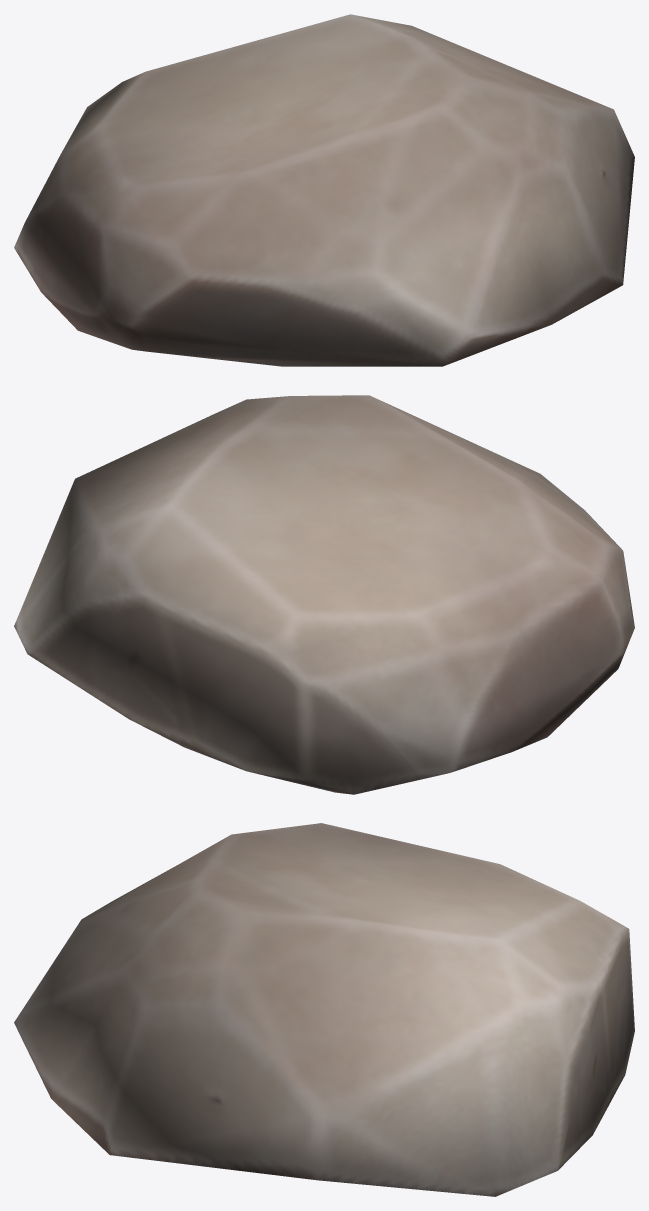
File: SM_Gem_Iron_001.fbx
3 views of the same model, one above another, from view 1: azimuth 30°, elevation 25°; view 2: azimuth 150°, elevation 25°; view 3: azimuth 270°, elevation 25° (orthographic). The views are drawn at different scales.
Parts seen in each view (by area): view 1: SM_Gem_Iron_001; view 2: SM_Gem_Iron_001; view 3: SM_Gem_Iron_001.
Part boxes in pixels (left/top/right/bottom): SM_Gem_Iron_001: left=14, top=14, right=634, bottom=366; SM_Gem_Iron_001: left=14, top=395, right=634, bottom=794; SM_Gem_Iron_001: left=14, top=823, right=634, bottom=1196.
Size of the model in its own units: 30.33 by 12.05 by 27.64.
